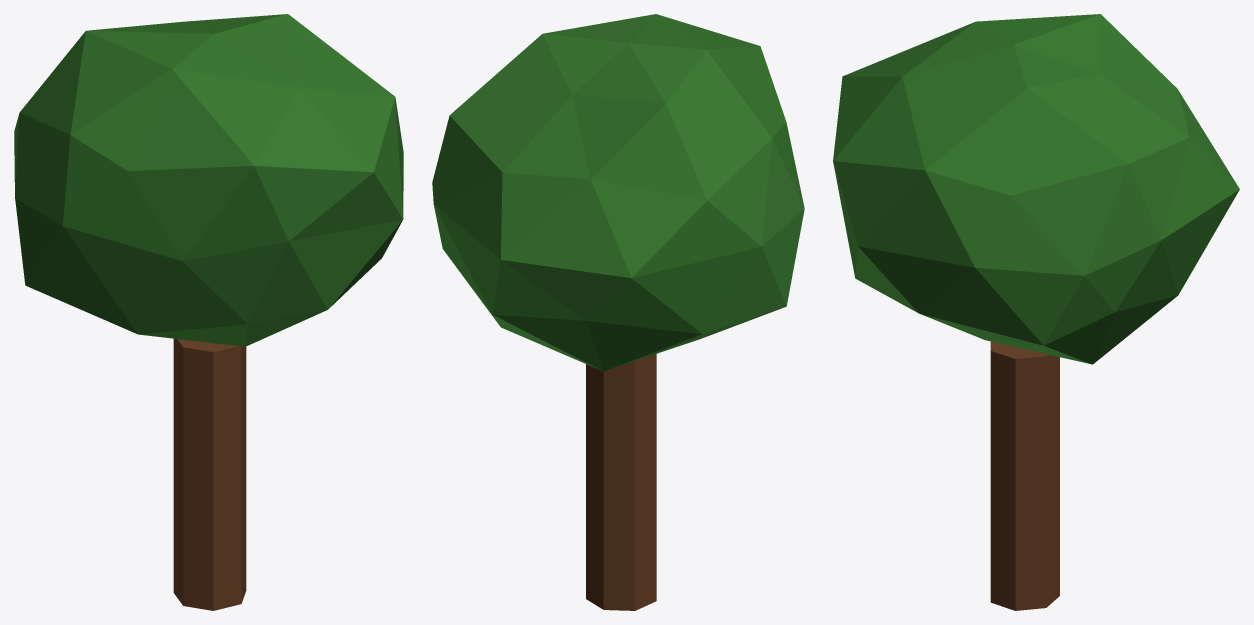
The model's file is wall_tree_tall.glb.
The picture shows the model from 3 angles, left to right: view 1: azimuth 30°, elevation 25°; view 2: azimuth 150°, elevation 25°; view 3: azimuth 270°, elevation 25°; orthographic projection. The views are drawn at different scales.
Parts seen in each view (by area): view 1: Cylinder; view 2: Cylinder; view 3: Cylinder.
Boxes of the visible parts, x1,y1,x2,y2 form: Cylinder: (14, 14, 403, 610); Cylinder: (432, 14, 804, 610); Cylinder: (833, 14, 1239, 610).
Bounding box in the file's own units: 2 × 3.12 × 2.09.
